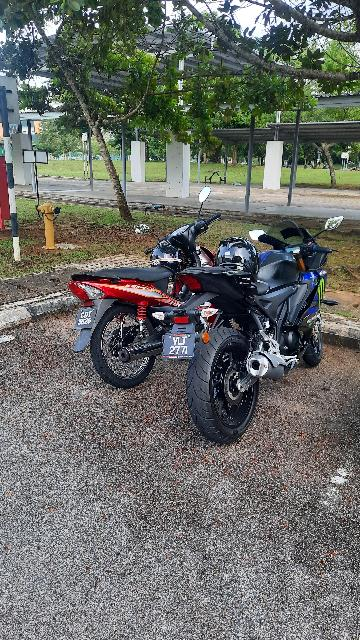License_Plate: (163, 332, 198, 362), (74, 306, 98, 330)
motorcycle: (167, 214, 347, 447), (67, 185, 221, 391)
